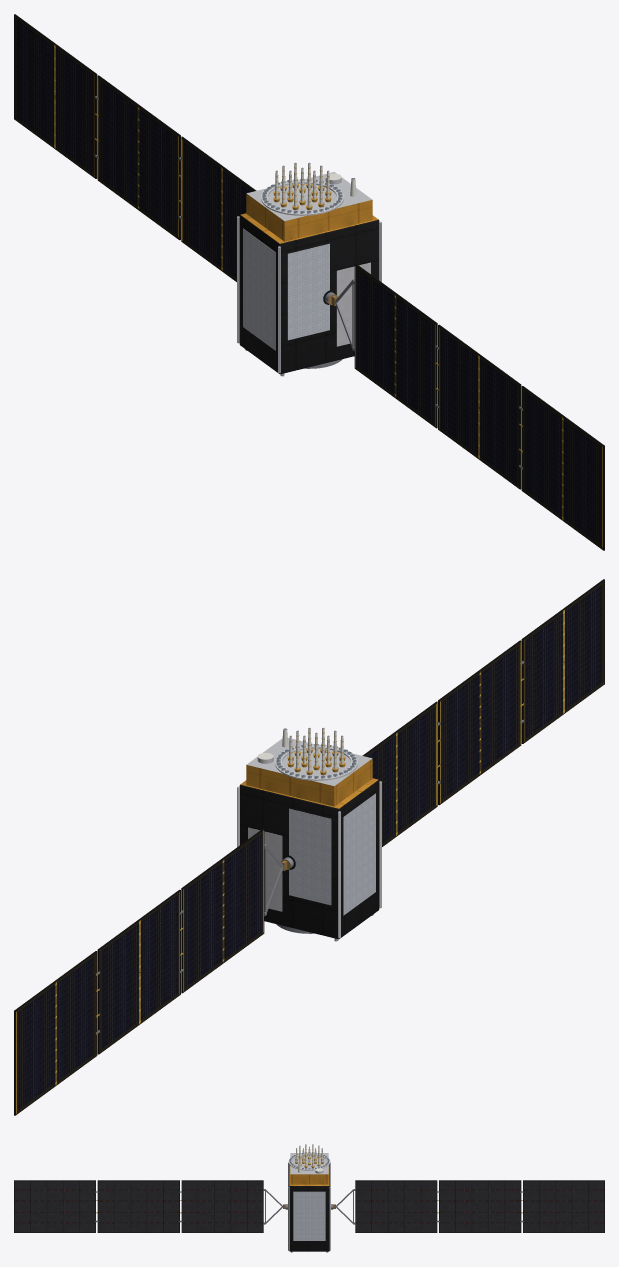
The model's file is glonass-k2.glb.
3 renders of one model, top to bottom at view 1: azimuth 30°, elevation 25°; view 2: azimuth 150°, elevation 25°; view 3: azimuth 270°, elevation 25°, orthographic. The views are drawn at different scales.
Parts seen in each view (by area): view 1: wing-Y, wing+Y, bus, nadir_antenna_and_lra; view 2: wing+Y, wing-Y, bus, nadir_antenna_and_lra; view 3: wing+Y, wing-Y, bus, nadir_antenna_and_lra.
Part boxes in pixels (x1=…): wing-Y: x1=331, y1=263, x2=604, y2=550; wing+Y: x1=14, y1=14, x2=256, y2=281; bus: x1=237, y1=213, x2=381, y2=374; nadir_antenna_and_lra: x1=246, y1=162, x2=372, y2=241; wing+Y: x1=14, y1=828, x2=287, y2=1115; wing-Y: x1=362, y1=579, x2=604, y2=846; bus: x1=237, y1=778, x2=381, y2=939; nadir_antenna_and_lra: x1=246, y1=727, x2=372, y2=806; wing+Y: x1=333, y1=1180, x2=604, y2=1232; wing-Y: x1=14, y1=1180, x2=285, y2=1232; bus: x1=288, y1=1162, x2=330, y2=1251; nadir_antenna_and_lra: x1=288, y1=1144, x2=330, y2=1184.
Size of the model in its own units: 2.08 by 3.46 by 20.4.
16 materials, 6 textured.
